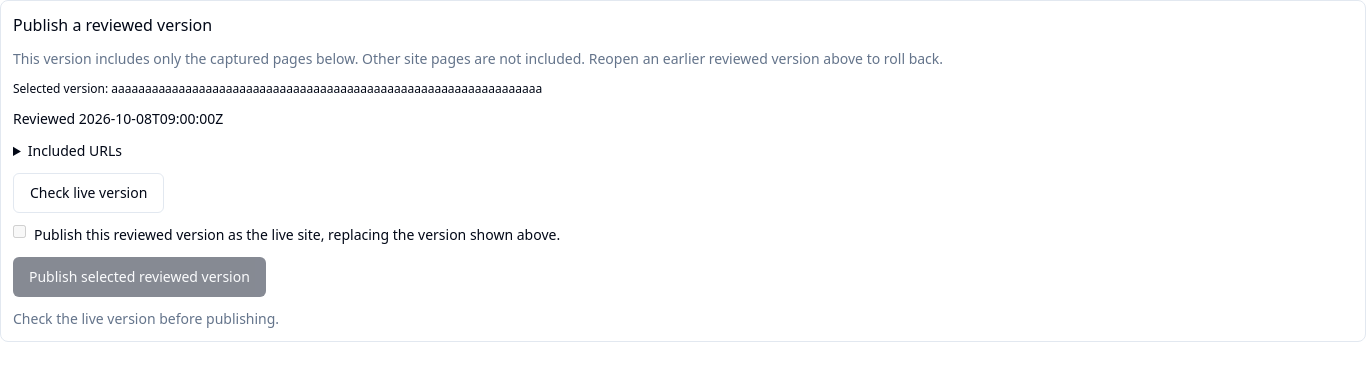
guarded publication panel › requires server read and explicit confirmation, sending exact target/expected only once
expect the button "Publish selected reviewed version" is disabled: met, box 13,257 -> 266,297
Click the button "Check live version".
click(89, 193)  # box 13,173 -> 164,213
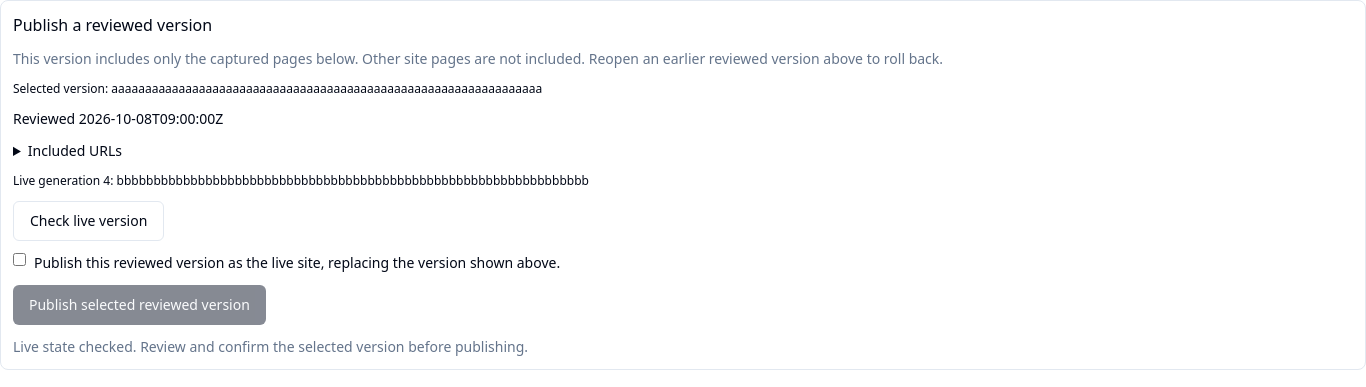
expect the button "Publish selected reviewed version" is disabled: met, box 13,285 -> 266,325
expect the text "Live state checked. Review and confirm the selected version before publishing." is shown: met, box 13,337 -> 528,356
Click the checkbox named "Confirm selected version replaces live site".
click(20, 260)  # box 13,253 -> 26,266
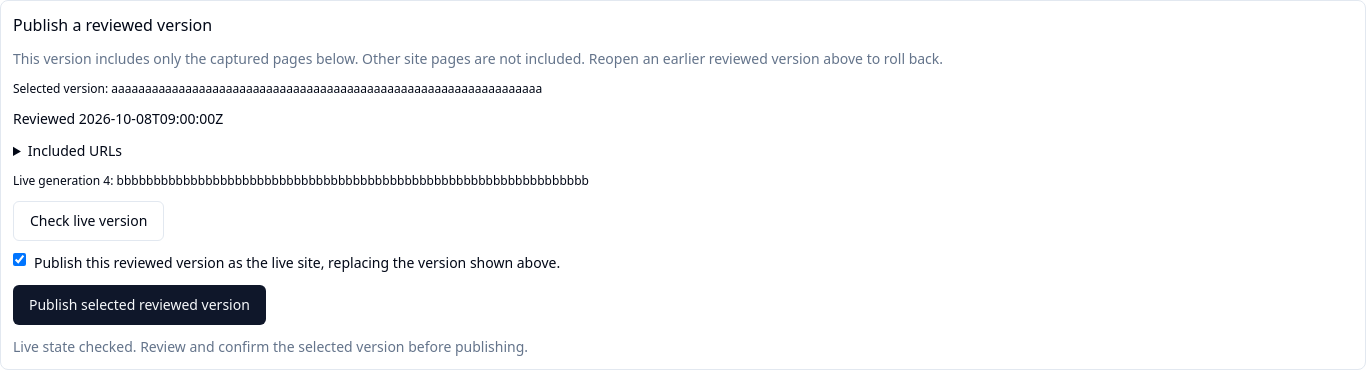
Click the button "Publish selected reviewed version".
click(139, 305)  # box 13,285 -> 266,325
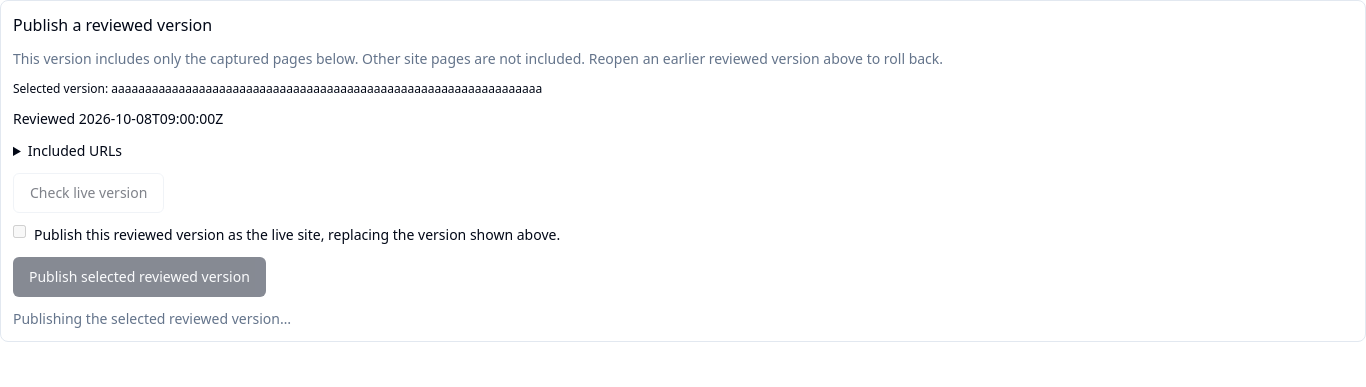
Click the button "Publish selected reviewed version".
click(139, 277)  # box 13,257 -> 266,297
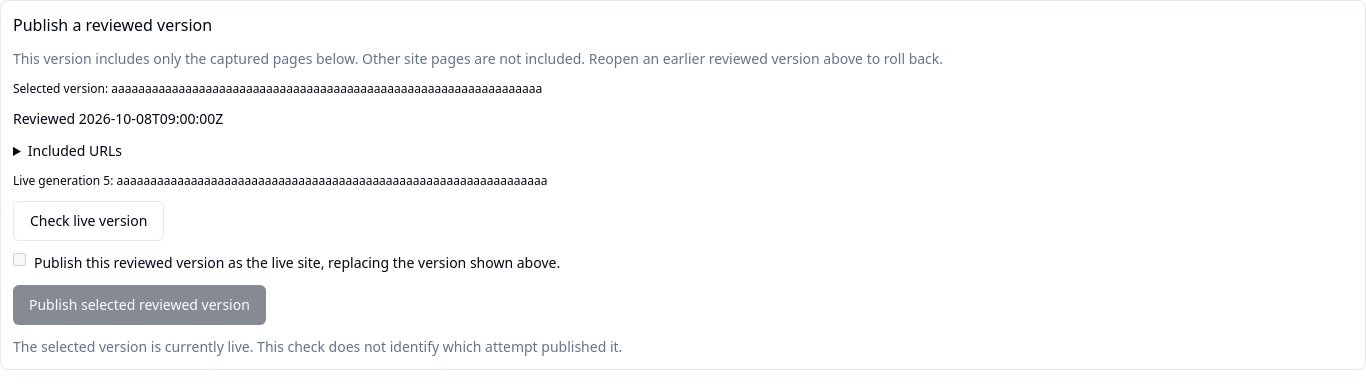
expect the button "Publish selected reviewed version" is disabled: met, box 13,285 -> 266,325
expect the text "selected version is currently live" is shown: met, box 13,337 -> 622,356
